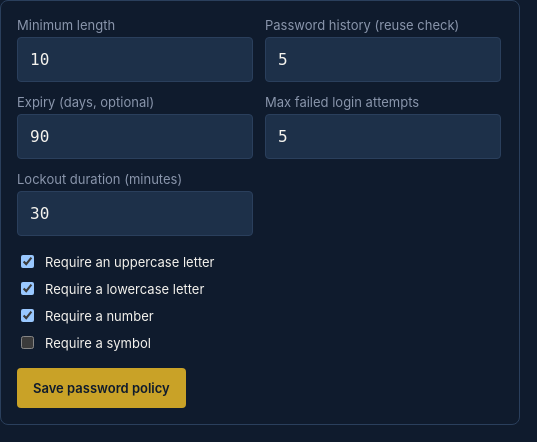
Test case: PasswordPolicyForm › falls back to a generic error message when the action fails without one
Click the button "Save password policy" at (101, 388), box left=17, top=368, right=186, bottom=408
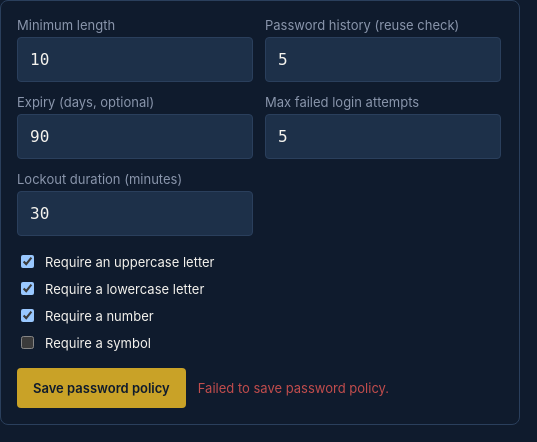
Now the text "Failed to save password policy." is shown, box left=198, top=380, right=389, bottom=396
